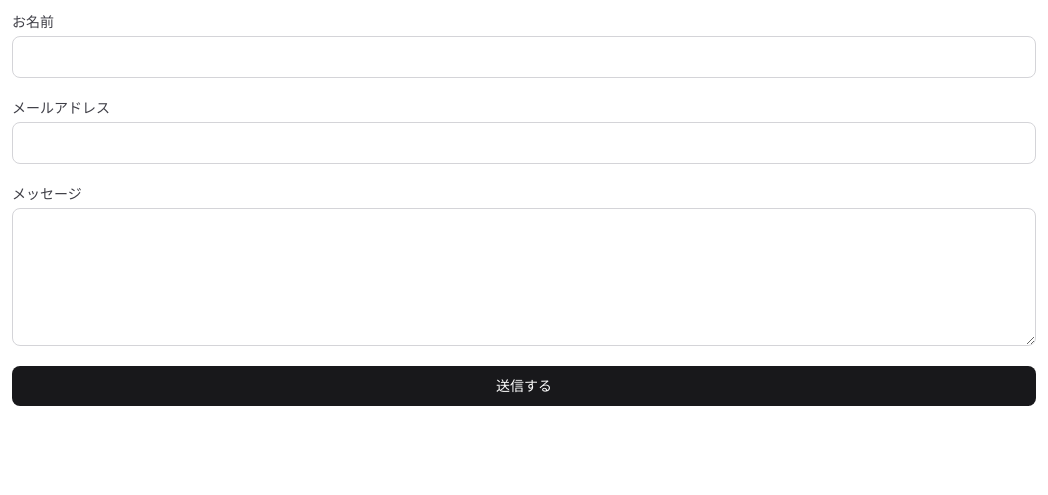
Test: ContactForm › 必須フィールドが空のとき送信するとバリデーションエラーを表示する
This screenshot has width=1048, height=495.
What coordinates should you click on to do the following:
click the button "送信する"
I would click on:
 (524, 386)
Its box is [12,366,1036,406].
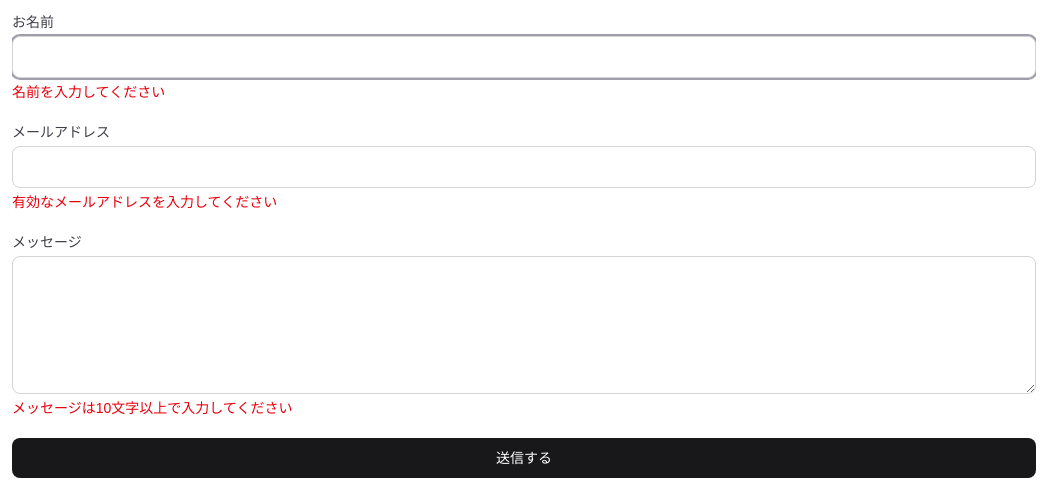
expect the text "名前を入力してください" is shown: met, box [12,84,165,100]
